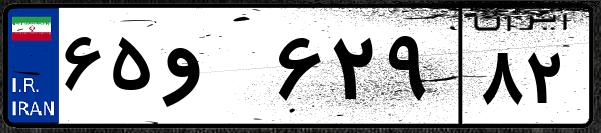2: (330, 28, 385, 110), (525, 38, 570, 115)
5: (110, 28, 158, 98)
6: (270, 28, 330, 110), (57, 26, 110, 100)
8: (475, 38, 525, 113)
9: (385, 28, 445, 110)
و: (158, 20, 270, 120)
